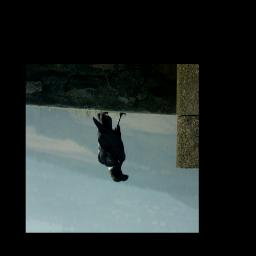Crow: (91, 111, 131, 184)
